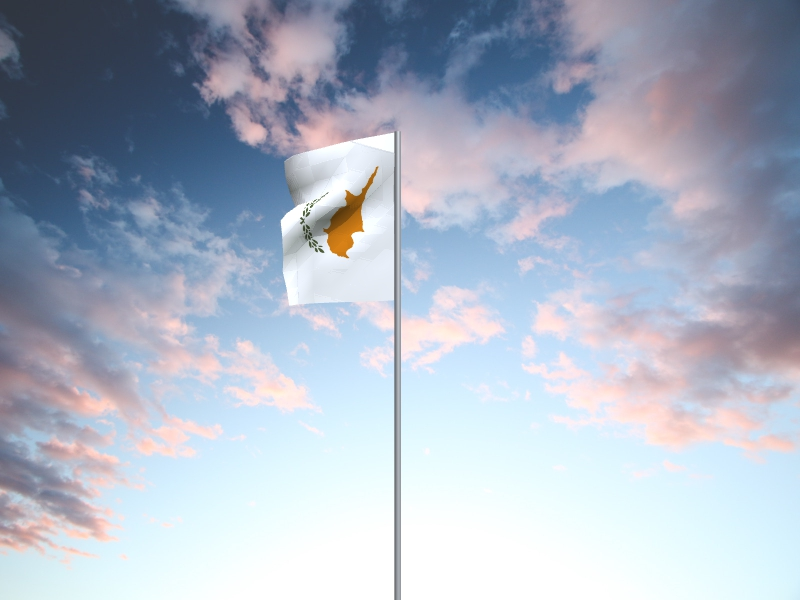cy: (280, 133, 394, 308)
